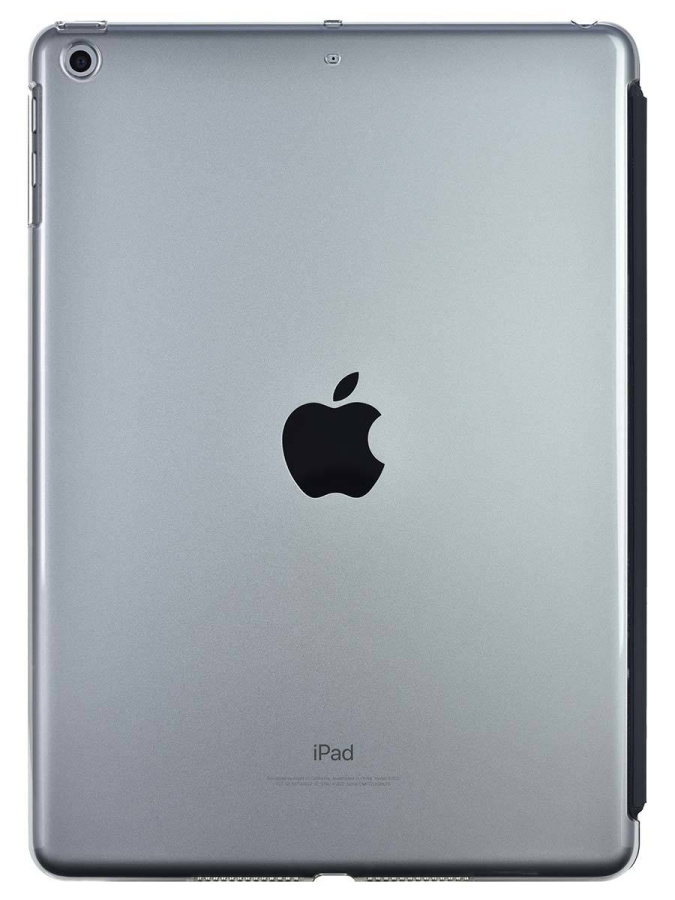apple: (252, 306, 462, 574)
